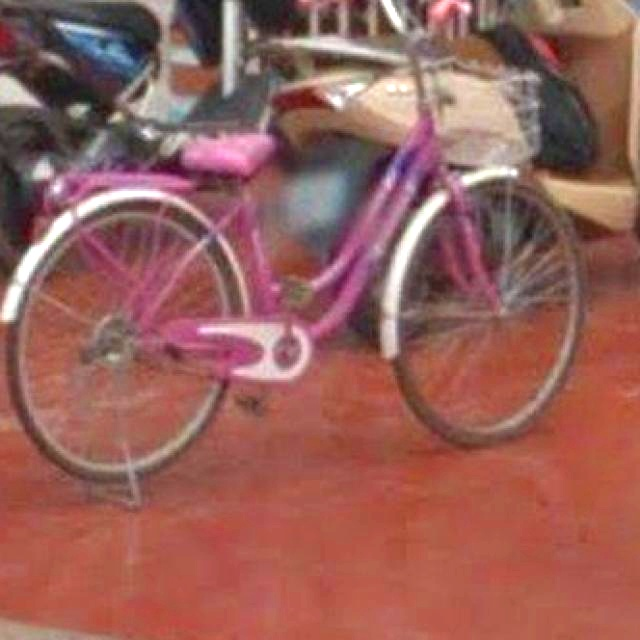bicycle: (0, 5, 609, 523)
